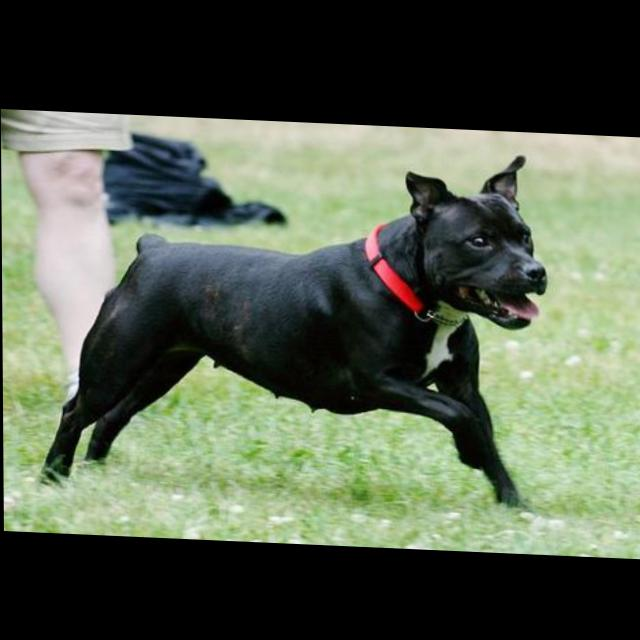staffford: (36, 133, 550, 509)
